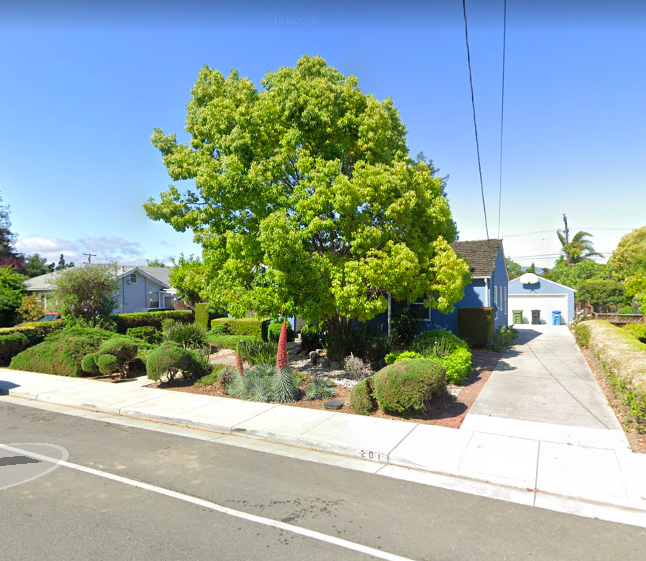tree: (140, 51, 473, 373)
